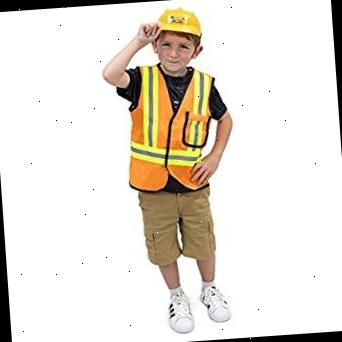helmet: (152, 6, 201, 42)
wear: (123, 68, 216, 189)
